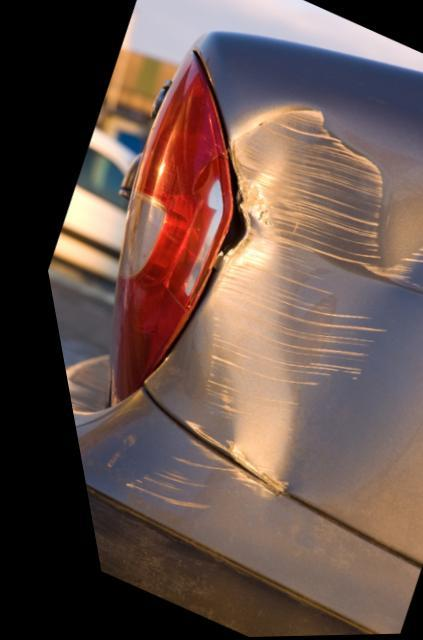dent: (192, 106, 423, 508)
lamp broken: (90, 54, 227, 410)
scratch: (107, 439, 258, 512), (169, 357, 222, 459)
